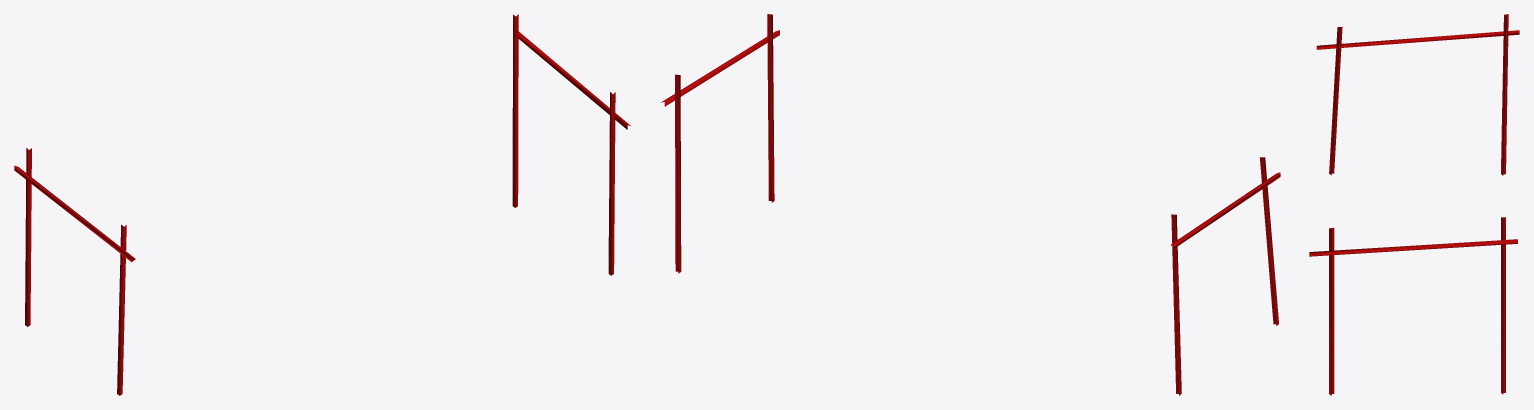
The model's file is canopy_1.glb.
3 views of the same model, side by side, from view 1: azimuth 30°, elevation 25°; view 2: azimuth 150°, elevation 25°; view 3: azimuth 270°, elevation 25° (orthographic). The views are drawn at different scales.
Parts seen in each view (by area): view 1: MODEL_s_bazaar_lod0; view 2: MODEL_s_bazaar_lod0; view 3: MODEL_s_bazaar_lod0.
Part boxes in pixels (left/top/right/bottom): MODEL_s_bazaar_lod0: left=14, top=14, right=630, bottom=395; MODEL_s_bazaar_lod0: left=661, top=14, right=1280, bottom=395; MODEL_s_bazaar_lod0: left=1309, top=14, right=1519, bottom=395.
Size of the model in its own units: 3.1 by 1.13 by 1.22.
